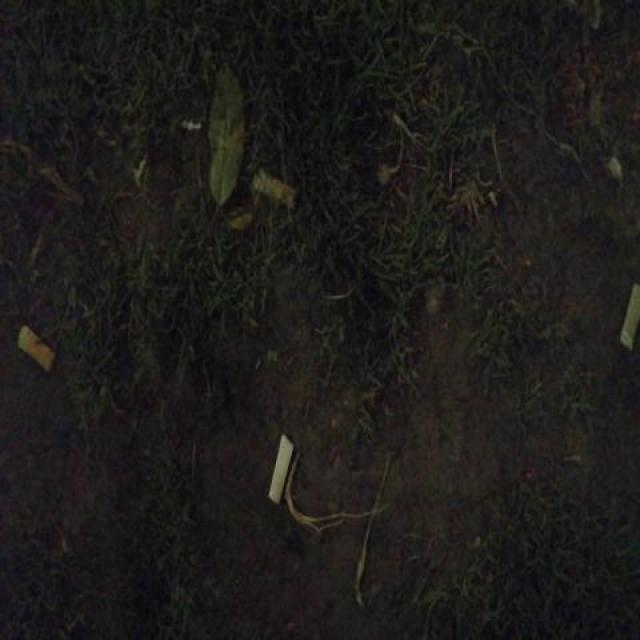non-organic waste: (264, 426, 300, 511), (11, 321, 58, 374), (246, 163, 298, 209), (613, 276, 639, 351)
